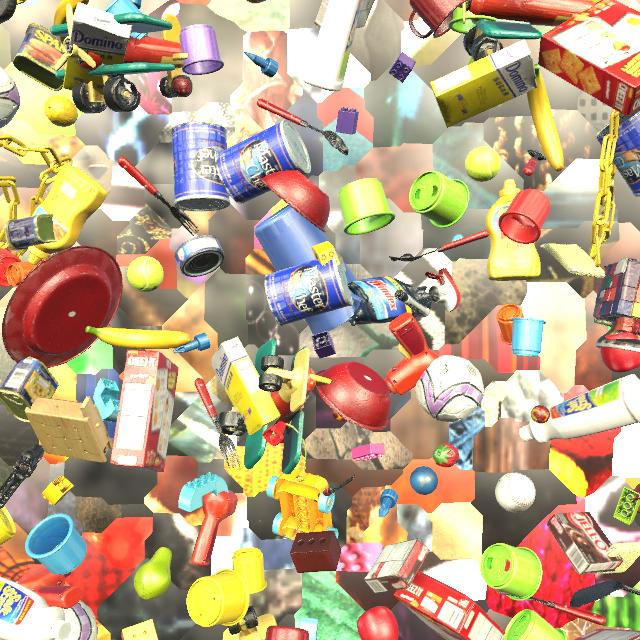ycb_002_master_chef_can: (215, 119, 311, 204), (264, 252, 354, 326), (171, 122, 230, 212), (595, 109, 640, 197)
ycb_003_cracker_box: (538, 0, 640, 117), (110, 349, 179, 472), (394, 571, 505, 640), (574, 628, 640, 640)
ycb_004_sugar_box: (430, 39, 538, 128), (211, 337, 281, 435), (63, 2, 132, 95)
ycb_006_mustard_bottle: (28, 164, 107, 265), (485, 179, 541, 281)
ycb_007_tuna_fish_can: (175, 235, 225, 277)
ycb_008_pudding_box: (547, 512, 624, 575), (364, 538, 430, 593), (314, 0, 375, 28)
ycb_010_potted_meat_can: (0, 357, 59, 423), (13, 23, 67, 91), (4, 214, 79, 250)
ycb_011_banana: (527, 64, 564, 171), (85, 326, 191, 349), (53, 0, 89, 45)
ycb_012_strawberry: (433, 443, 459, 467)
ycb_013_apple: (600, 332, 640, 372), (357, 606, 399, 640)
ycb_014_lemon: (44, 96, 78, 127)
ycb_015_peach: (246, 0, 266, 4)
ycb_016_pear: (134, 547, 172, 600)
